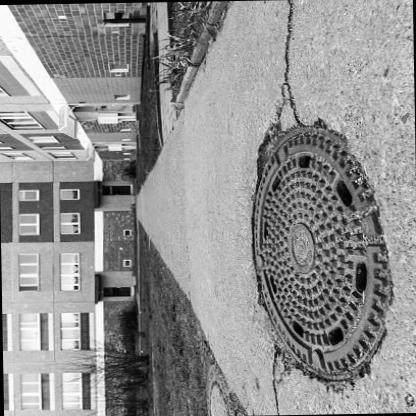manholes: (226, 81, 403, 398)
